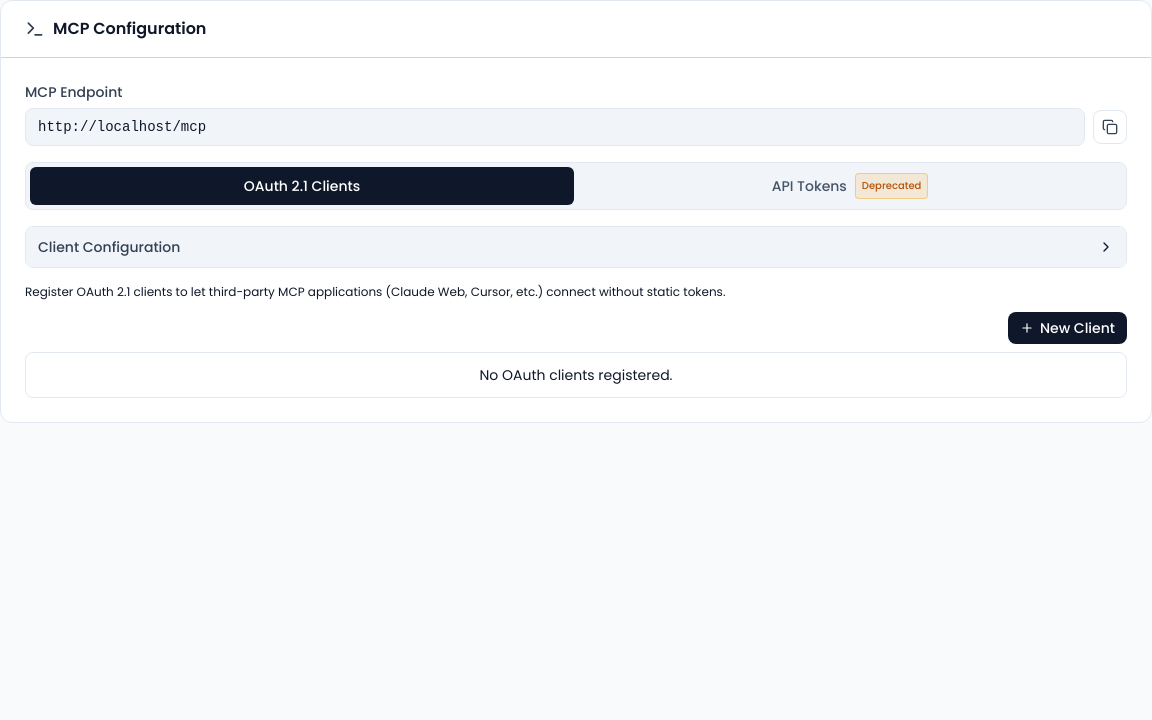
IntegrationsTab › FE-COMP-INTEGRATIONS-010: Create button in modal becomes enabled when name is typed
Expected: the heading "MCP Configuration" is shown, [53, 17, 206, 41]
Click the button "API Tokens Deprecated". click: (809, 186)
box: [578, 167, 1122, 205]
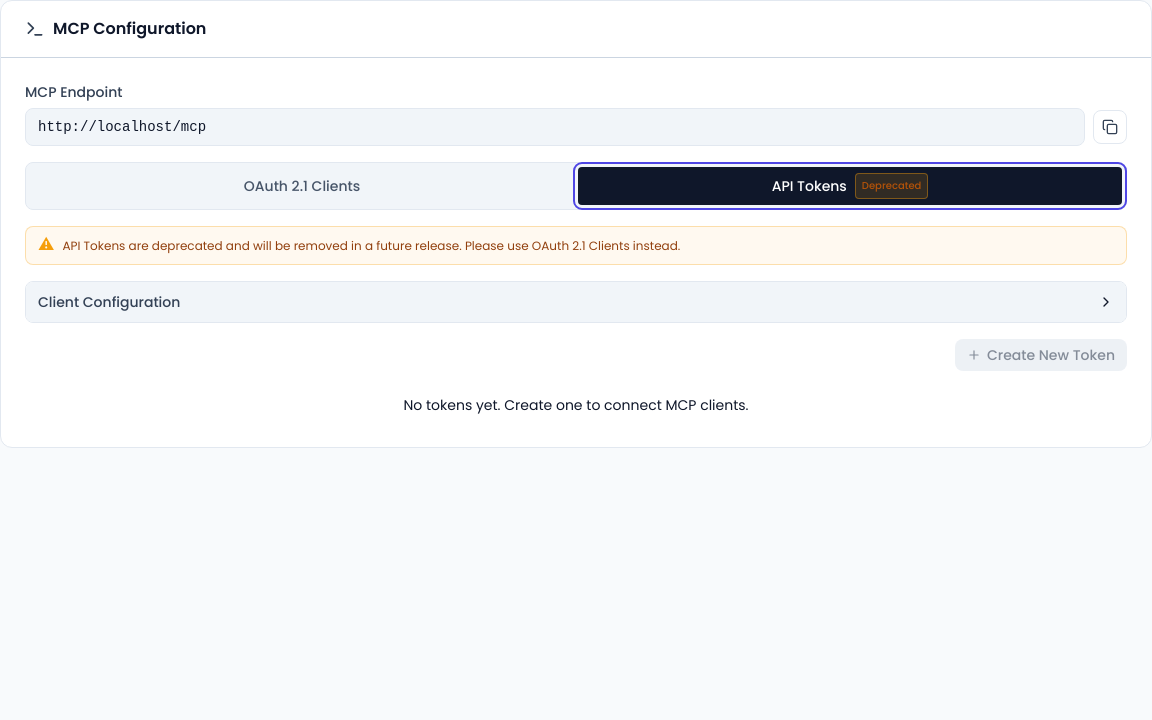
Click the button "Create New Token". click: (1041, 355)
box: [955, 339, 1127, 371]
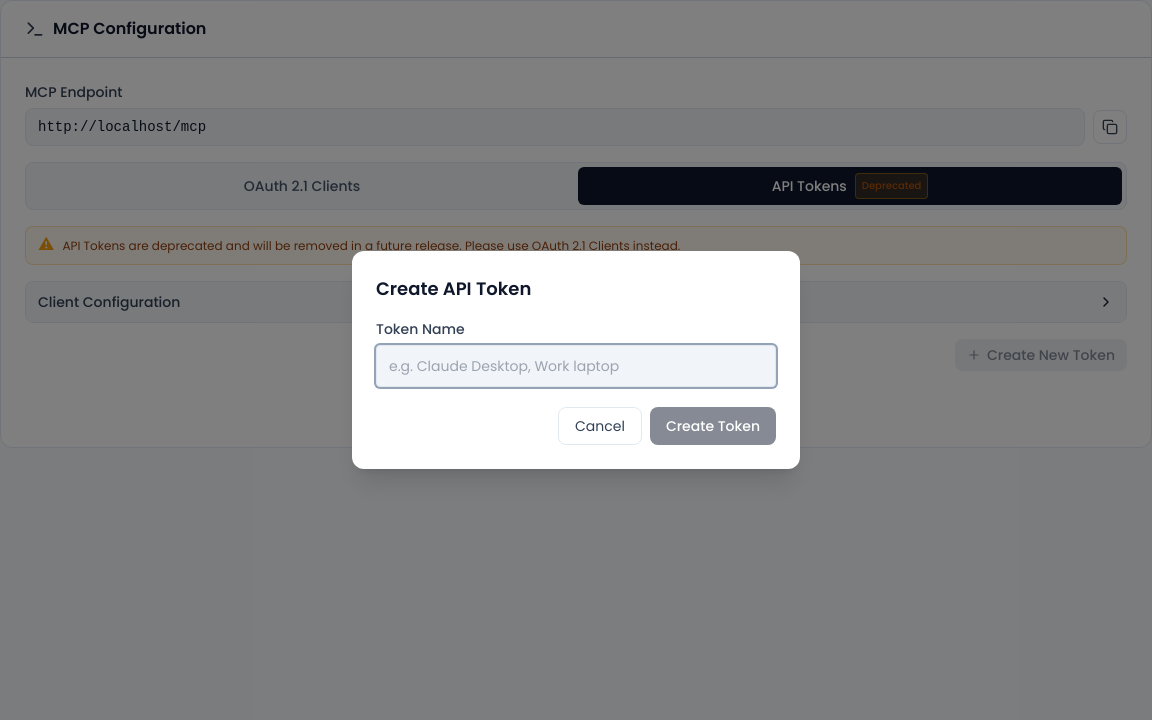
Expected: the heading "Create API Token" is shown, [376, 276, 531, 301]
Type "My API token" into the field with placeholder "e.g. Claude Desktop, Work laptop". click: (576, 366)
box: [376, 345, 776, 387]
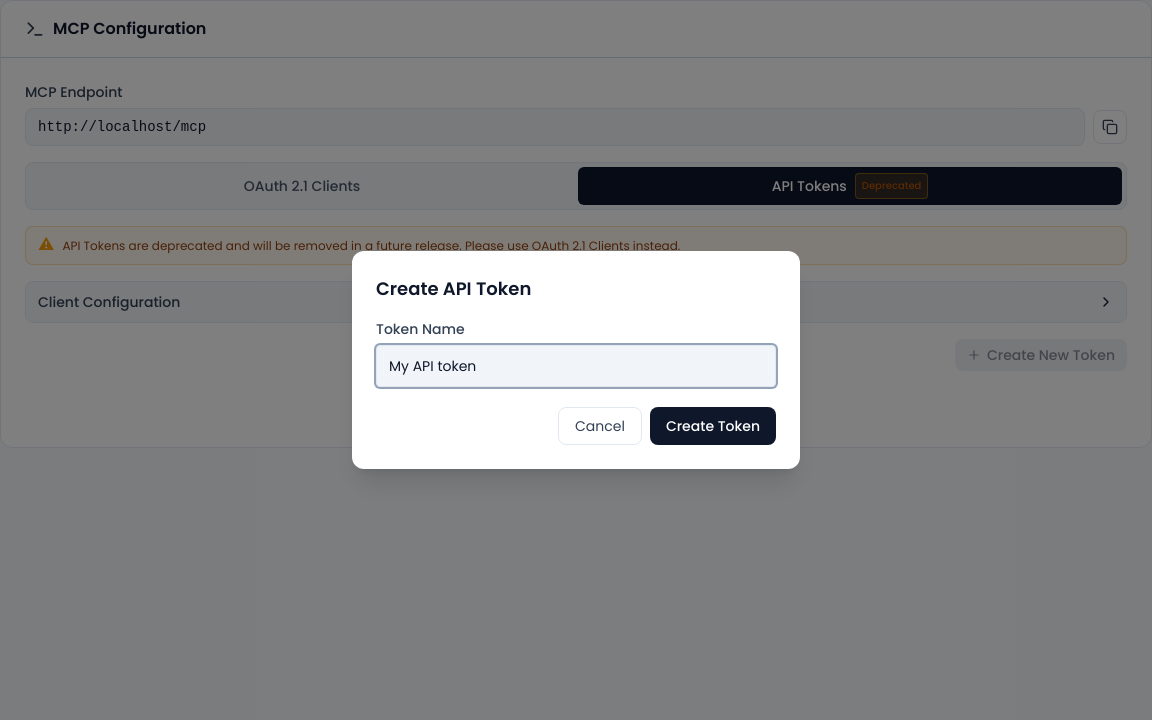
Expected: the button "Create Token" is enabled, [650, 407, 776, 445]
